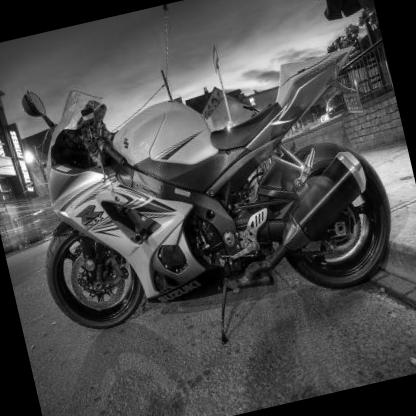moto: (7, 37, 412, 356)
